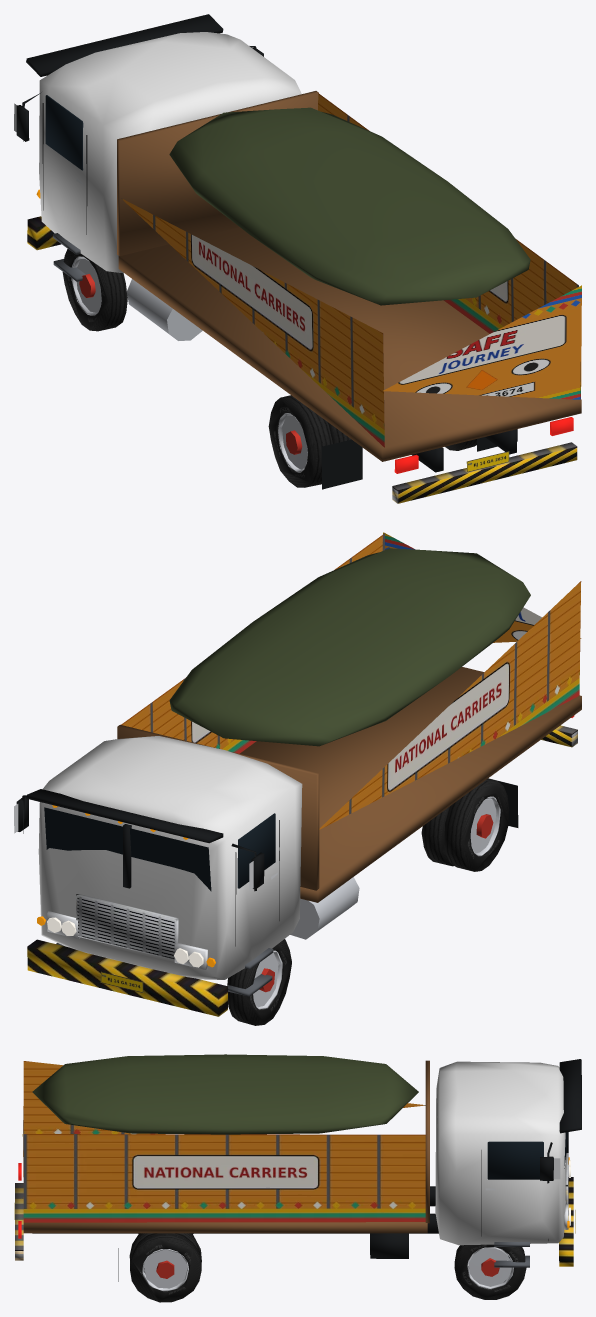
File: truck2_far.glb
The picture shows the model from 3 angles, top to bottom: view 1: azimuth 30°, elevation 25°; view 2: azimuth 150°, elevation 25°; view 3: azimuth 270°, elevation 25°; orthographic projection. The views are drawn at different scales.
Visible parts, largest first — view 1: truck_Parts, truck_CabPaint, truck_TruckSide2, truck_TruckRear2, truck_Tyre, truck_Glass, truck_Lamps; view 2: truck_Parts, truck_CabPaint, truck_TruckSide2, truck_Glass, truck_Tyre, truck_TruckRear2, truck_Lamps; view 3: truck_Parts, truck_TruckSide2, truck_CabPaint, truck_Tyre, truck_Glass.
Part boxes in pixels (box(x1,y1,x2,y2)): truck_Parts: box(14, 14, 581, 503); truck_CabPaint: box(39, 32, 301, 272); truck_TruckSide2: box(121, 93, 580, 447); truck_TruckRear2: box(383, 285, 581, 399); truck_Tyre: box(62, 249, 476, 487); truck_Glass: box(45, 95, 83, 170); truck_Lamps: box(36, 189, 573, 473); truck_Parts: box(14, 548, 581, 1016); truck_CabPaint: box(38, 736, 302, 979); truck_TruckSide2: box(121, 533, 581, 829); truck_Glass: box(44, 807, 275, 891); truck_Tyre: box(227, 778, 509, 1025); truck_TruckRear2: box(383, 532, 581, 642); truck_Lamps: box(37, 715, 574, 967); truck_Parts: box(14, 1054, 581, 1291); truck_TruckSide2: box(23, 1061, 425, 1222); truck_CabPaint: box(435, 1061, 565, 1245); truck_Tyre: box(129, 1233, 526, 1302); truck_Glass: box(487, 1132, 568, 1179).
Bounding box in the file's own units: 2.93 × 2.88 × 7.87.
7 materials, 5 textured.
